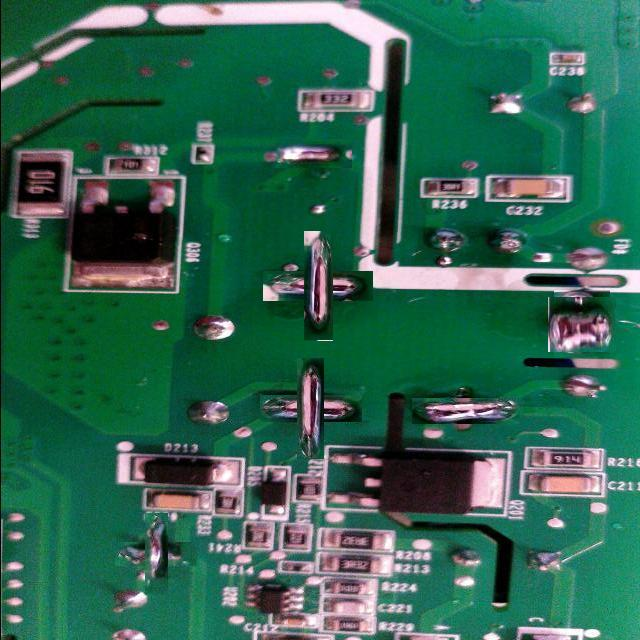Short_circuit: (284, 251, 354, 321), (279, 376, 343, 441), (551, 293, 613, 355), (130, 528, 183, 581), (412, 398, 520, 424), (276, 140, 352, 170)
